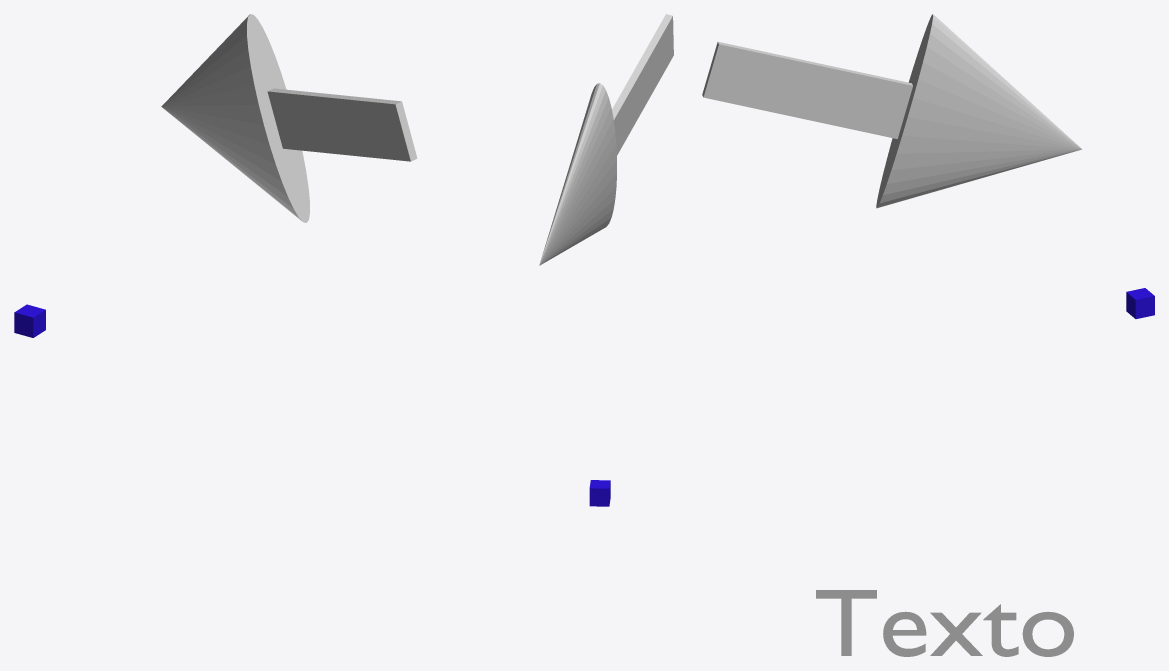
File: Cubo2.0.glb
3 renders of one model, left to right at view 1: azimuth 30°, elevation 25°; view 2: azimuth 150°, elevation 25°; view 3: azimuth 270°, elevation 25°, orthographic. The views are drawn at different scales.
Parts seen in each view (by area): view 1: Cone, Cube; view 2: Cone, Cube; view 3: Cone, ddddddd, Cube.
Part boxes in pixels (x1,y1,x2,y2): Cone: [161, 14, 417, 222]; Cube: [14, 304, 45, 337]; Cone: [539, 14, 673, 265]; Cube: [589, 480, 610, 506]; Cone: [702, 14, 1082, 208]; ddddddd: [816, 590, 1073, 656]; Cube: [1126, 288, 1154, 318].
Size of the model in its own units: 2.29 by 6.16 by 4.24.
